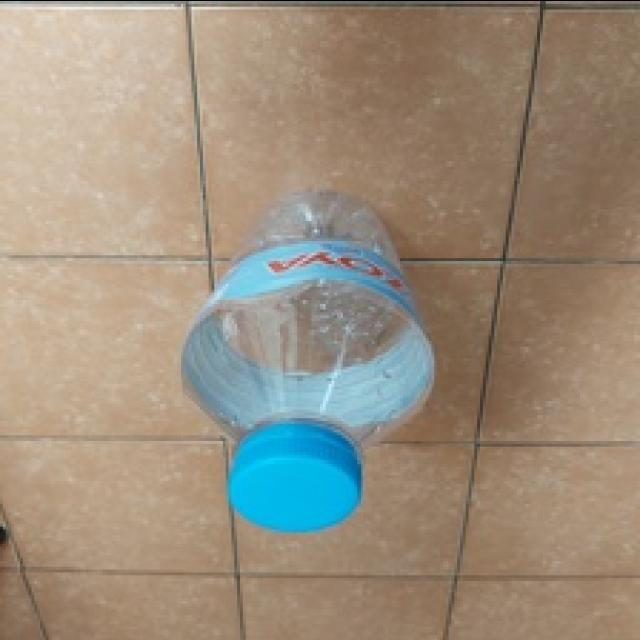寶特瓶: (190, 173, 450, 555)
